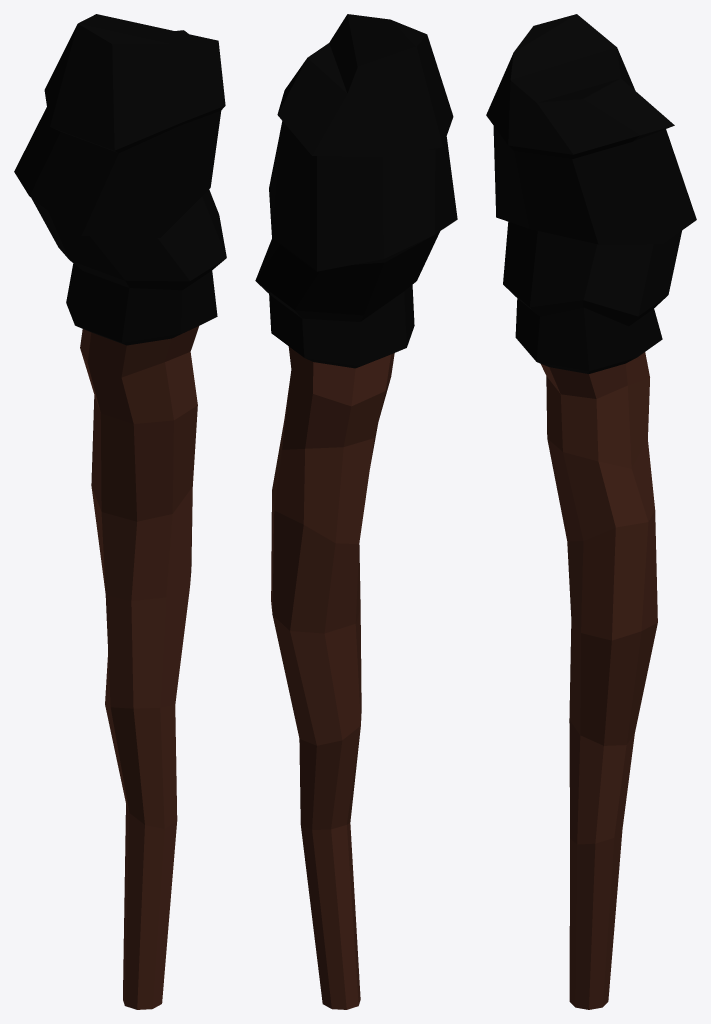
The model's file is torch.glb.
3 views of the same model, side by side, from view 1: azimuth 30°, elevation 25°; view 2: azimuth 150°, elevation 25°; view 3: azimuth 270°, elevation 25° (orthographic). The views are drawn at different scales.
Visible parts, largest first — view 1: Cylinder; view 2: Cylinder; view 3: Cylinder.
Part boxes in pixels (x1,y1,x2,y2): Cylinder: (14,14,226,1009); Cylinder: (255,14,457,1009); Cylinder: (486,14,696,1009).
Bounding box in the file's own units: 1.61 × 8.61 × 1.72.
